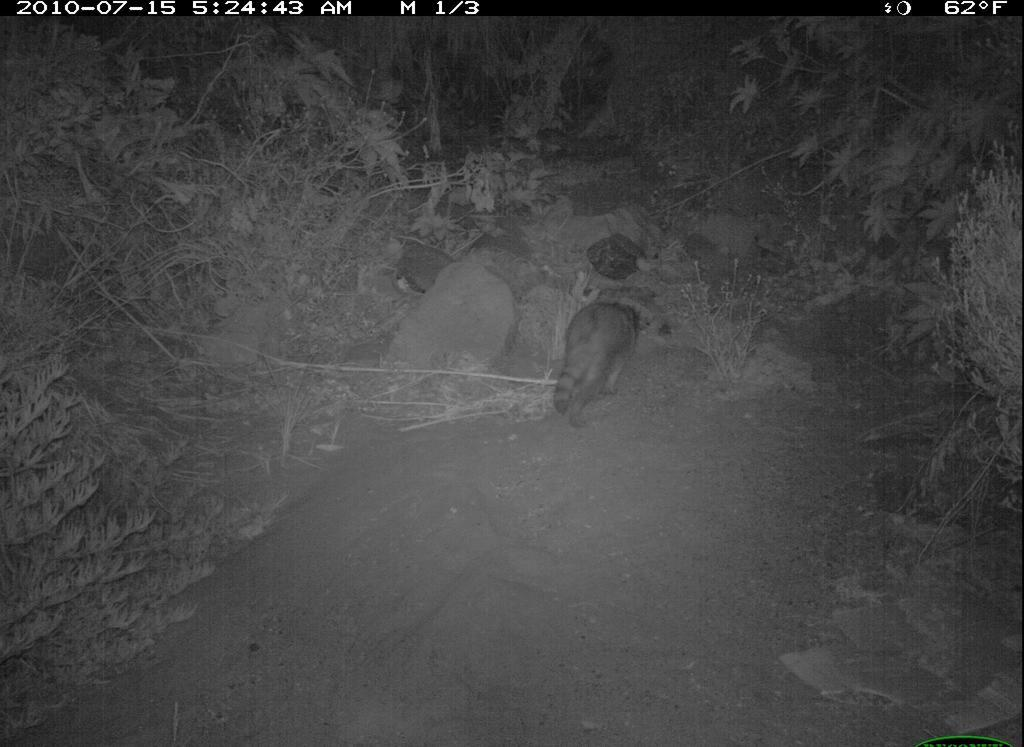raccoon: (525, 289, 674, 449)
